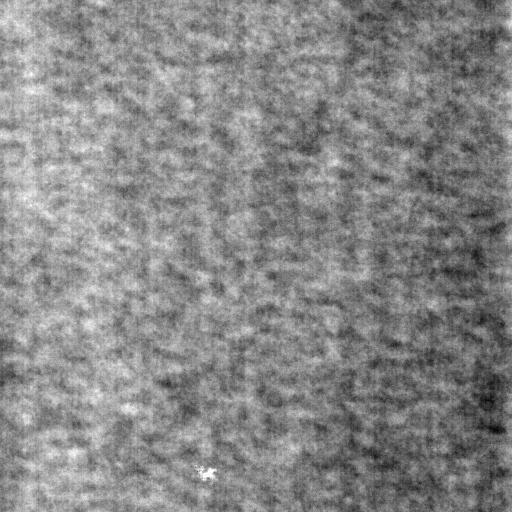DefectTypeA: (194, 464, 225, 484)
